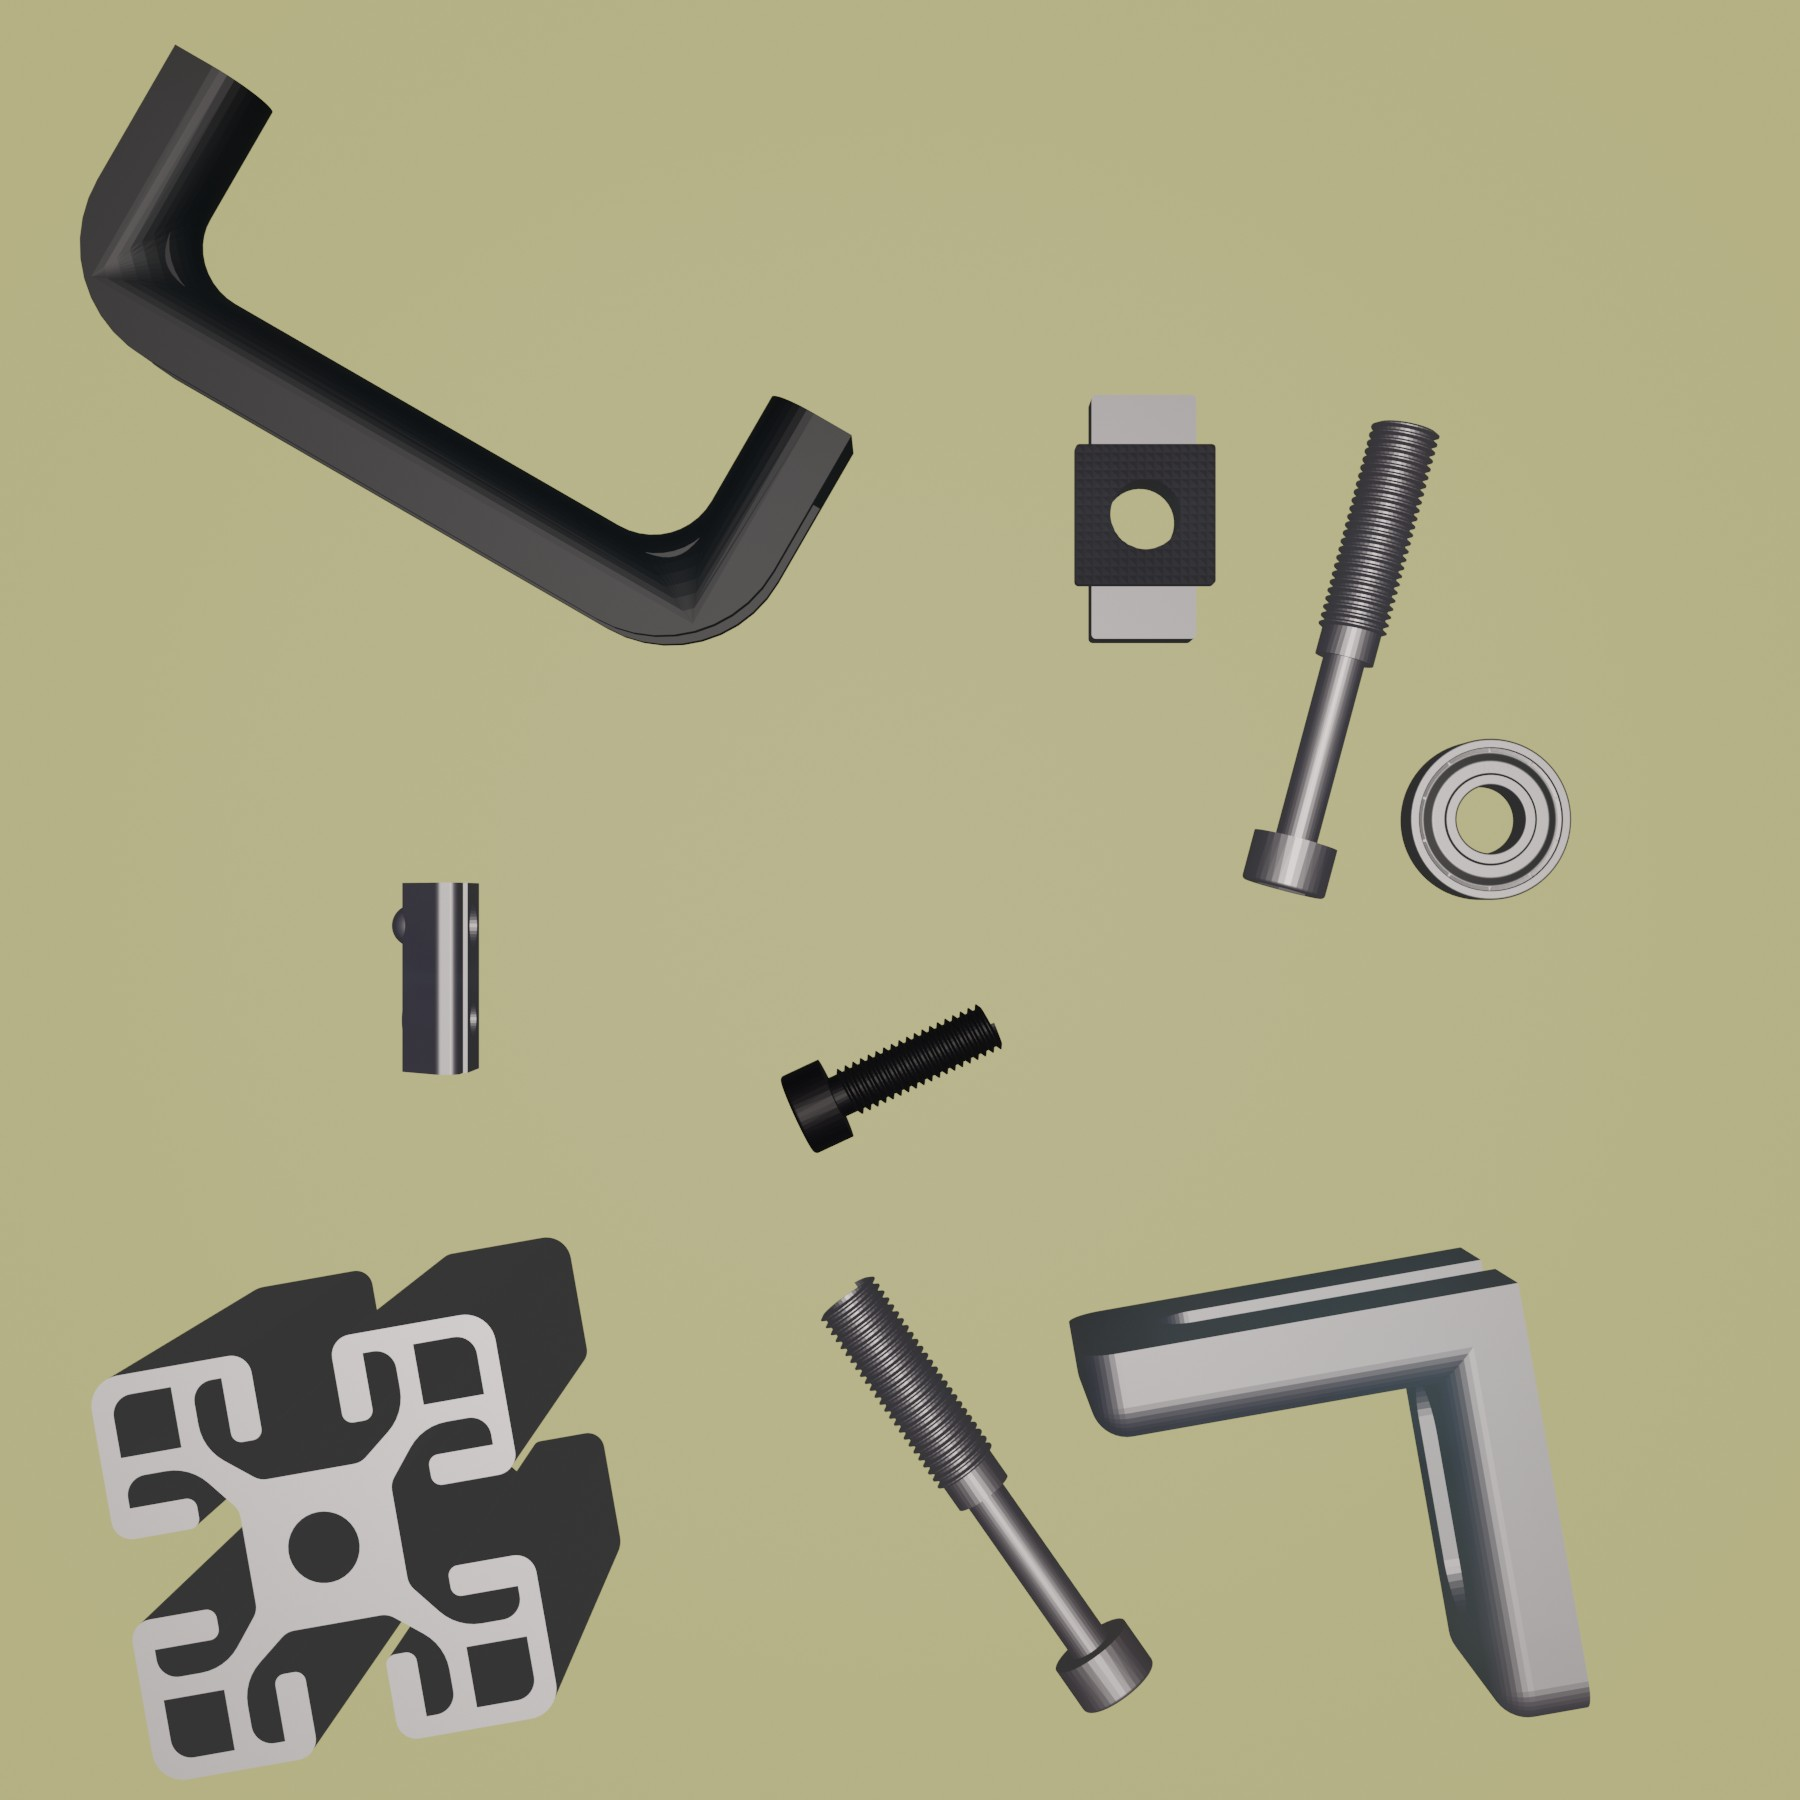Aluminium Extension: (89, 1235, 623, 1780)
Ball Bearing: (1398, 732, 1574, 903)
Multiwinkel: (1066, 1241, 1594, 1718)
Pull Handle: (76, 40, 855, 649)
Shoulder Socket Head Cap Screw: (819, 1269, 1155, 1714), (1240, 415, 1442, 903)
Socket Head Cap Screw: (780, 999, 1009, 1154)
T Nut Square: (1066, 389, 1220, 648)
T Spring Nut: (391, 874, 490, 1080)
